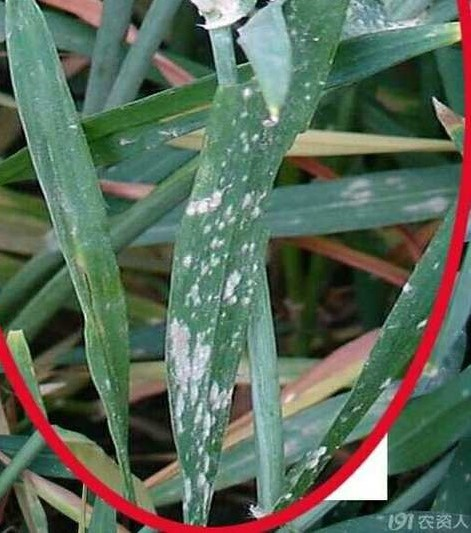Powdery Mildew: (139, 166, 276, 494)
